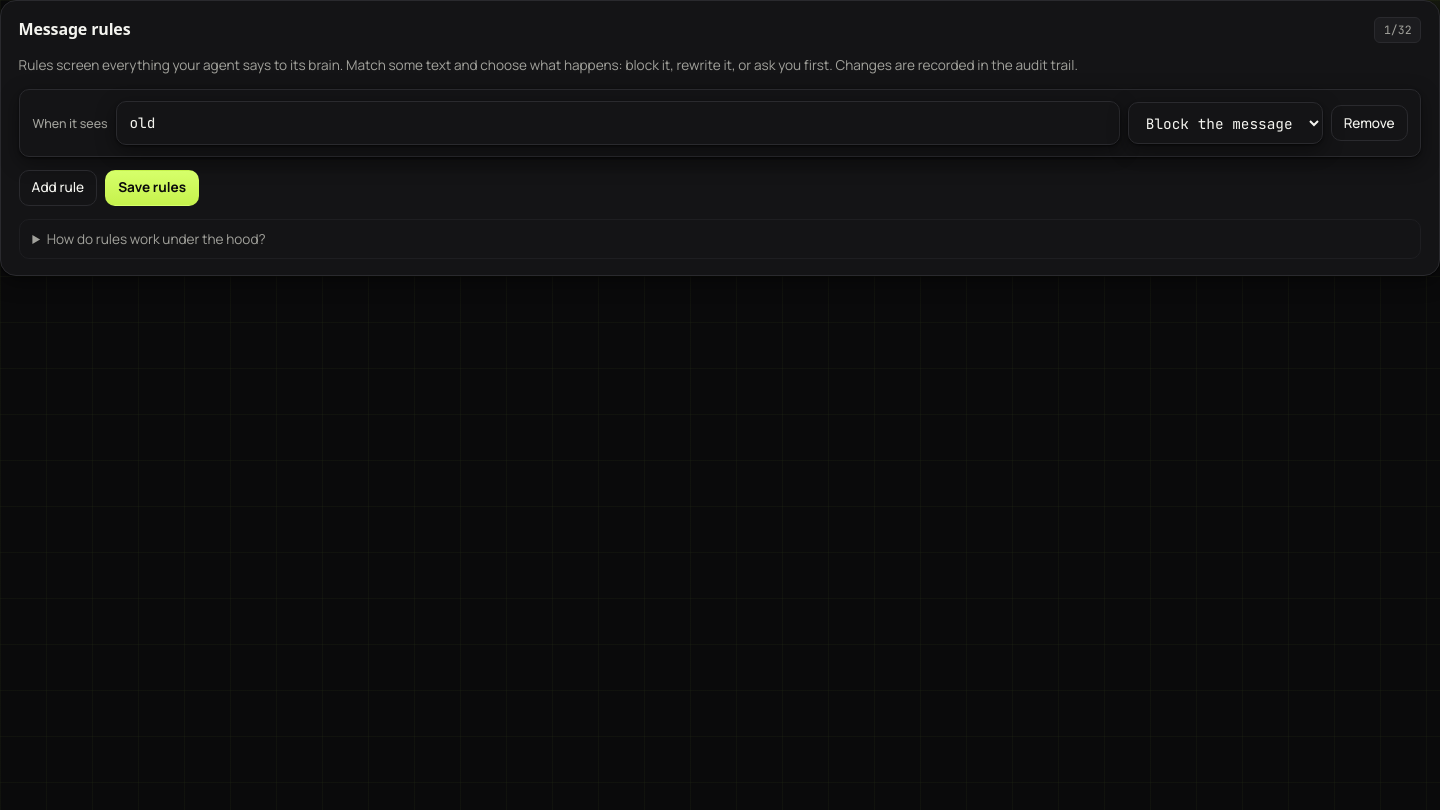
Test: RulesEditor › adds and removes rows, then submits the cleaned shape
The width and height of the screenshot is (1440, 810).
Click the button with test id "add-rule-btn" at point(58, 188), box [19,170,97,206]
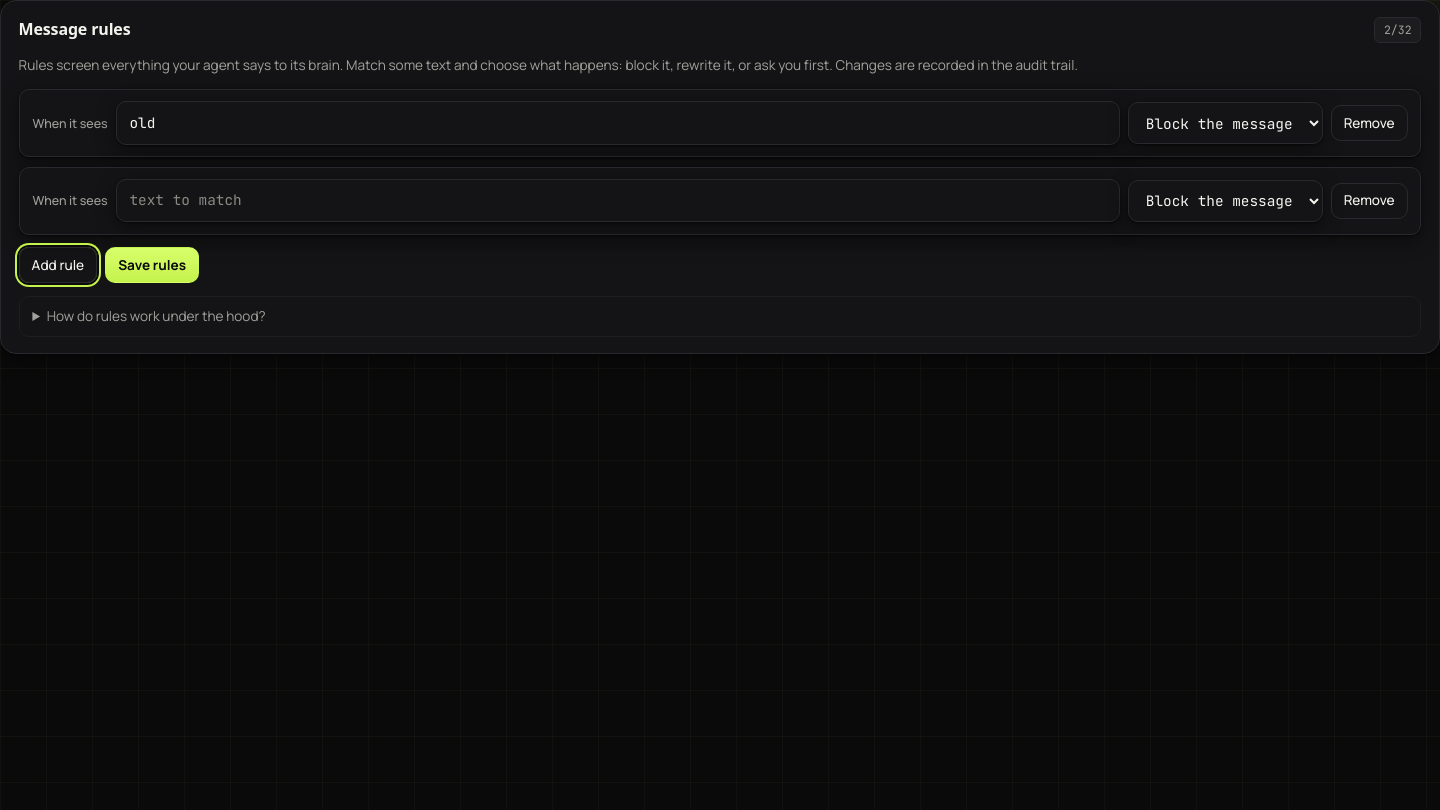
Type "  password  " into the field named "Rule 2 text to match" at point(618, 201), box [116,179,1120,222]
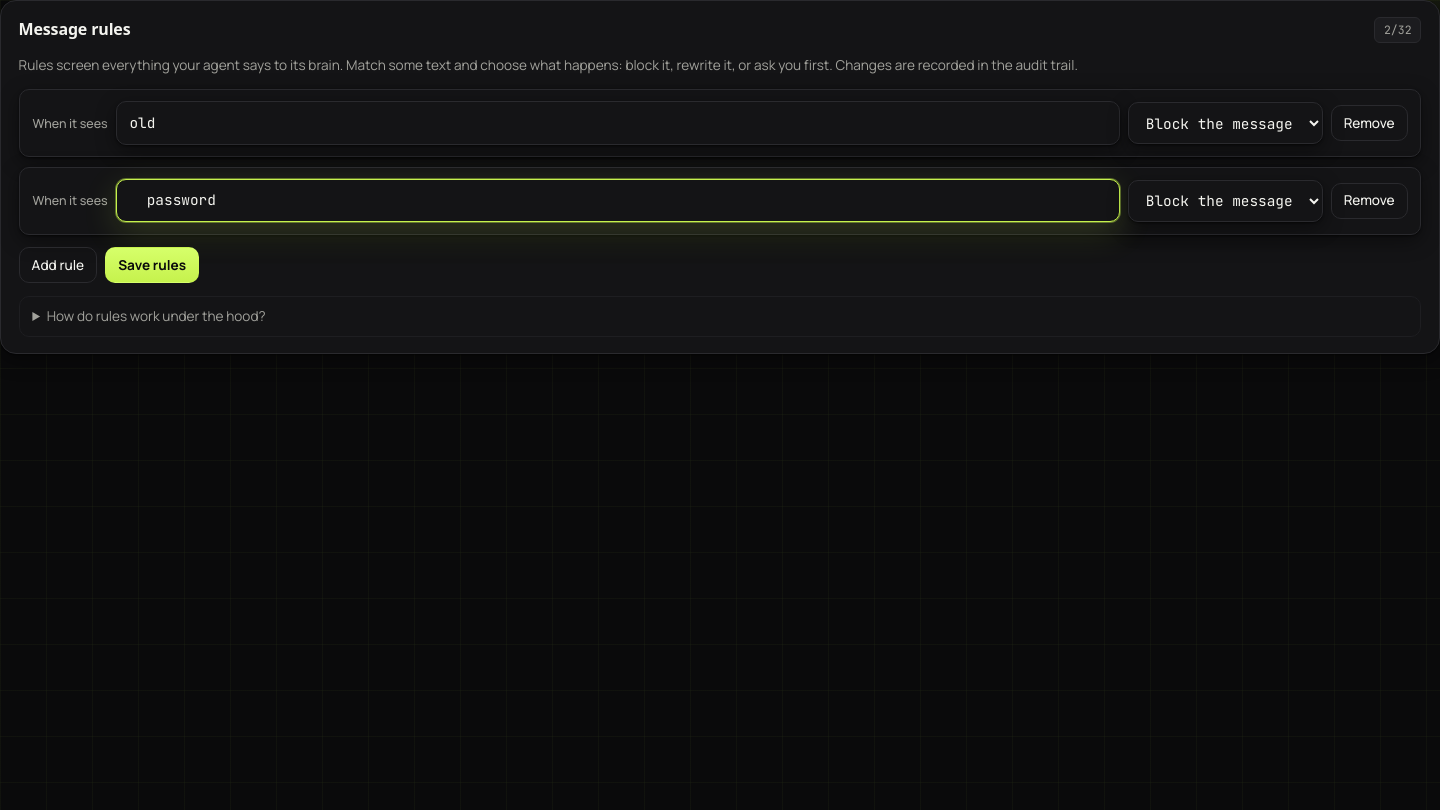
Select "Ask me first" in the dropdown named "Rule 2 action" at point(1225, 201), box [1128,180,1323,222]
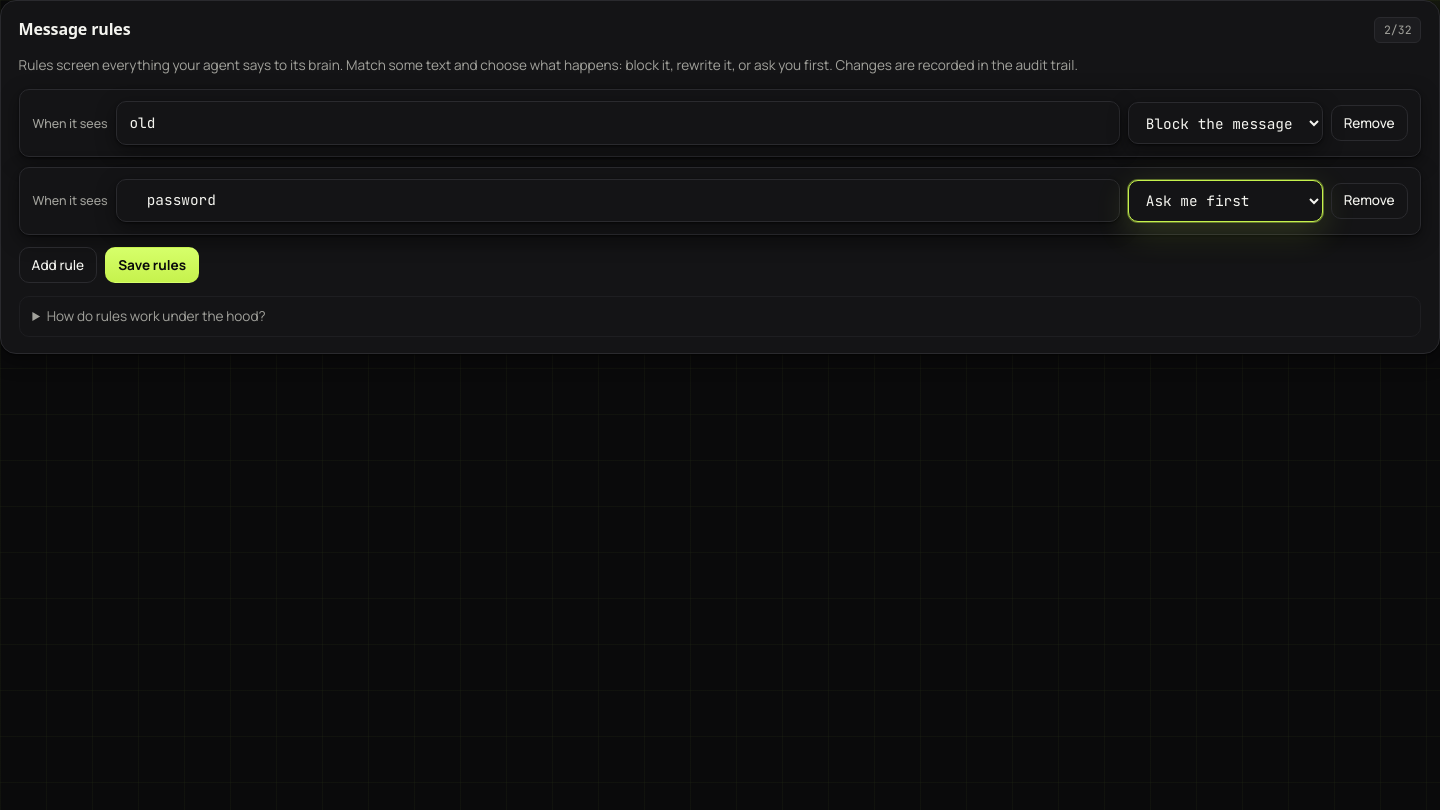
Click the button with test id "remove-rule-0" at point(1369, 123), box [1331,105,1408,141]
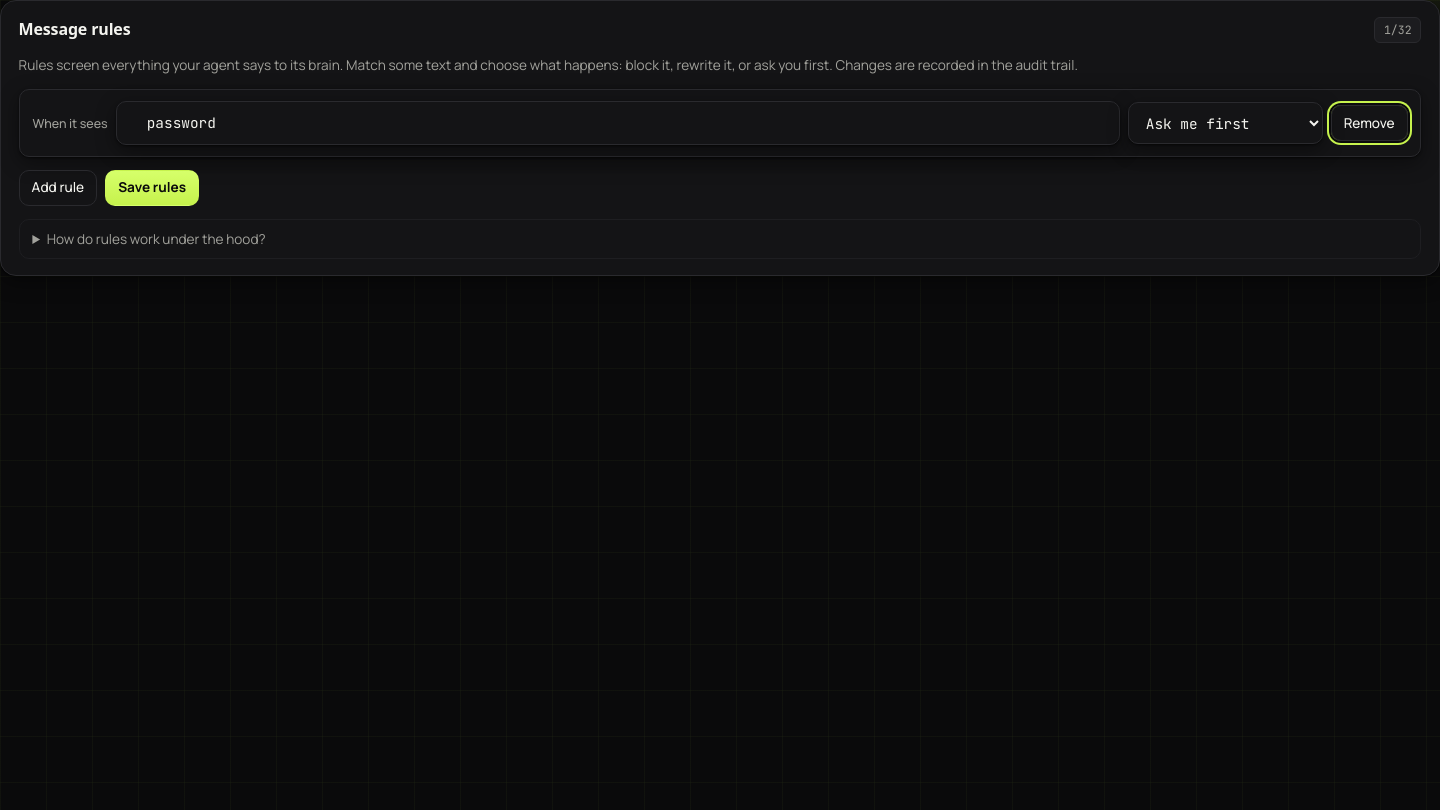
Click the button with test id "save-rules-btn" at point(152, 188), box [105,170,199,206]
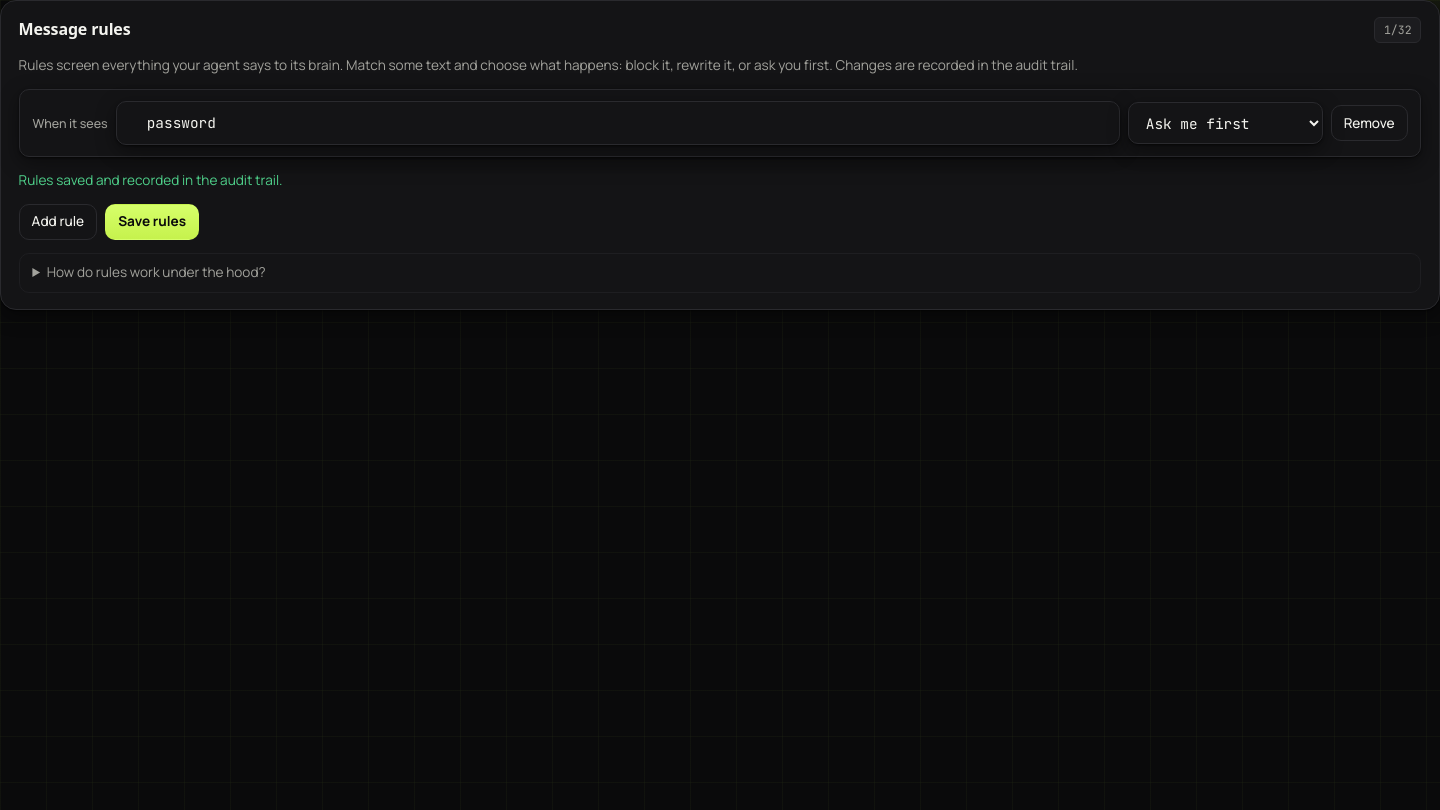
Check: the message "Rules saved and recorded in the audit trail." is shown, box [19,171,282,189]
